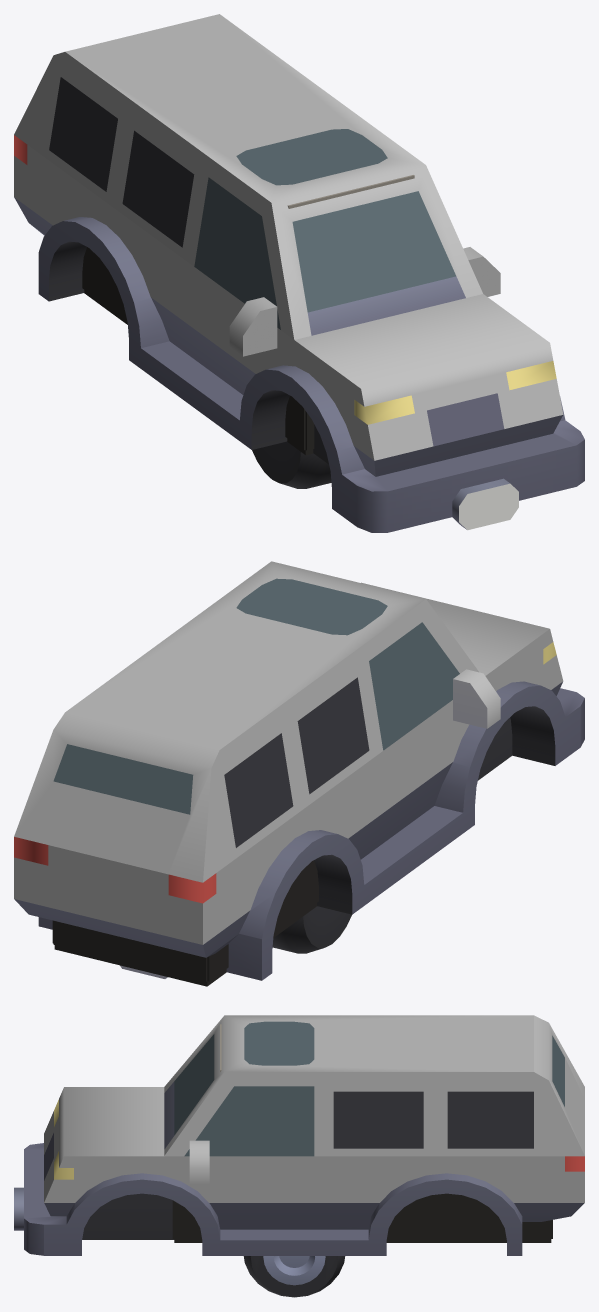
File: banana-island-lx-v1.glb
The picture shows the model from 3 angles, top to bottom: view 1: azimuth 30°, elevation 25°; view 2: azimuth 150°, elevation 25°; view 3: azimuth 270°, elevation 25°; orthographic projection. The views are drawn at different scales.
Parts seen in each view (by area): view 1: paint, trim, glass, interior, wheel, headlamp, plate; view 2: paint, trim, glass, interior, wheel, taillamp; view 3: paint, trim, glass, interior, wheel, headlamp.
Part boxes in pixels (bbox=[...]): paint: bbox=[14, 14, 563, 460]; trim: bbox=[14, 77, 584, 532]; glass: bbox=[194, 129, 455, 329]; interior: bbox=[82, 175, 414, 455]; wheel: bbox=[252, 441, 331, 488]; headlamp: bbox=[354, 361, 556, 424]; plate: bbox=[459, 483, 518, 530]; paint: bbox=[14, 561, 563, 944]; trim: bbox=[14, 677, 584, 980]; glass: bbox=[53, 578, 459, 814]; interior: bbox=[52, 860, 318, 986]; wheel: bbox=[272, 906, 351, 953]; taillamp: bbox=[14, 837, 216, 903]; paint: bbox=[44, 1015, 584, 1202]; trim: bbox=[14, 1082, 584, 1255]; glass: bbox=[174, 1021, 564, 1156]; interior: bbox=[172, 1024, 552, 1242]; wheel: bbox=[243, 1256, 345, 1297]; headlamp: bbox=[54, 1099, 73, 1179].
Bounding box in the file's own units: 1.95 × 2.4 × 4.99.
8 materials, 2 textured.
